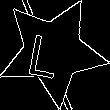L_N: (33, 24, 73, 79)
